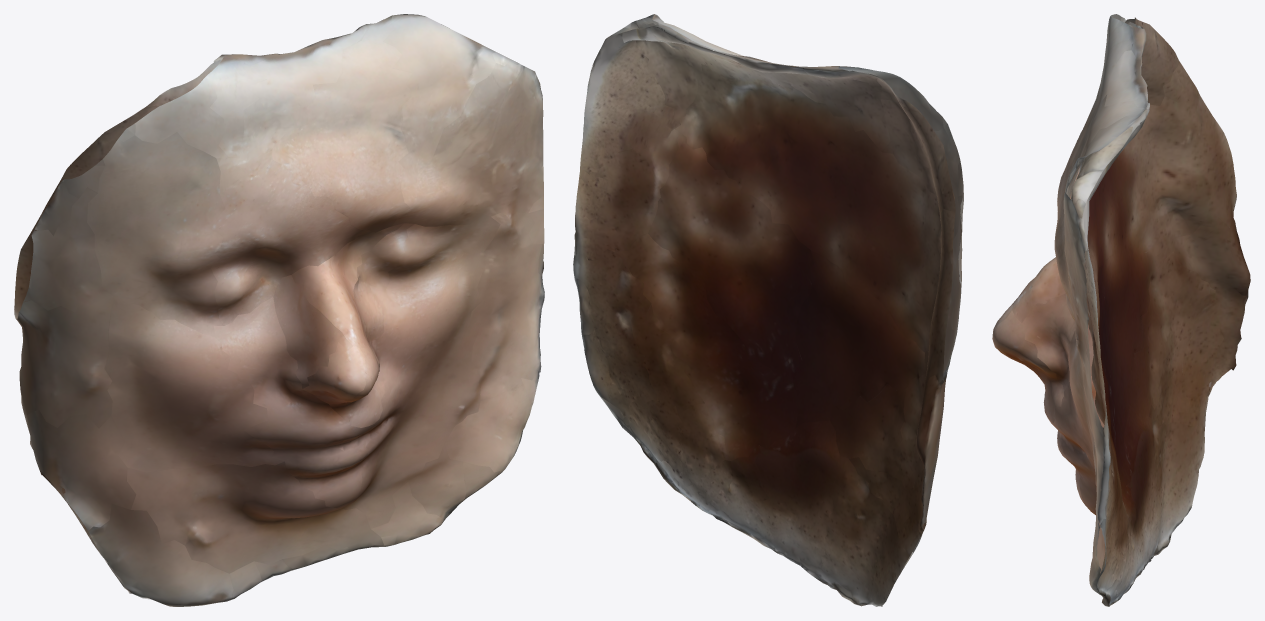
3 renders of one model, left to right at view 1: azimuth 30°, elevation 25°; view 2: azimuth 150°, elevation 25°; view 3: azimuth 270°, elevation 25°, orthographic. The views are drawn at different scales.
Visible parts, largest first — view 1: Object; view 2: Object; view 3: Object.
Boxes of the visible parts, bbox=[...] form: Object: bbox=[14, 14, 544, 606]; Object: bbox=[573, 14, 963, 606]; Object: bbox=[992, 14, 1250, 606].
Bounding box in the file's own units: 0.3926 × 0.4498 × 0.1979.
1 material, 1 textured.
